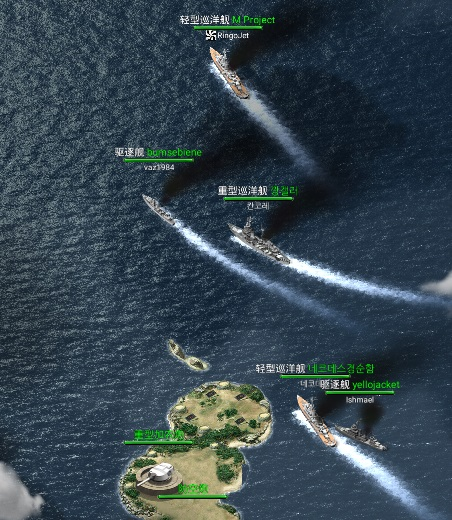ship: (226, 220, 294, 265), (207, 43, 251, 99), (295, 393, 336, 450), (336, 423, 389, 451), (140, 191, 178, 226)
